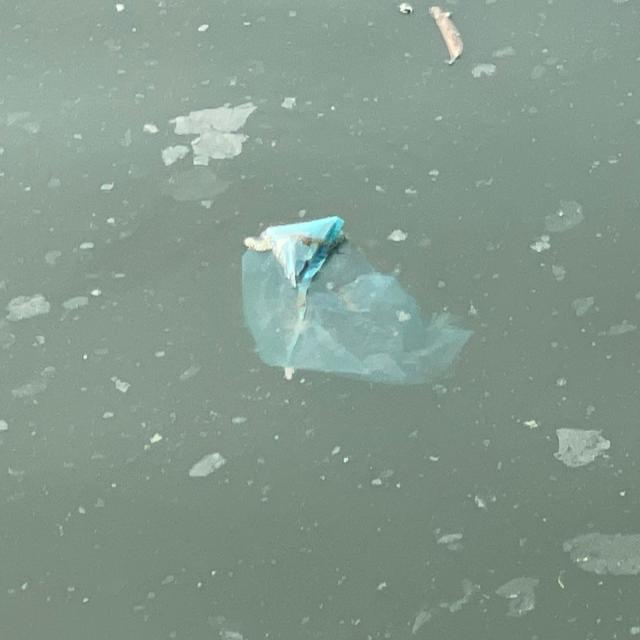Kantong Plastik: (239, 207, 470, 400)
